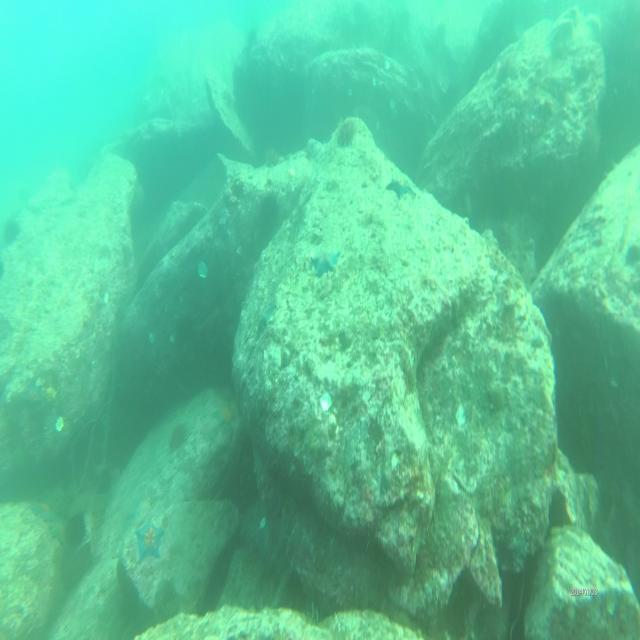echinus: (336, 116, 359, 148), (66, 513, 86, 547), (170, 423, 187, 453)
starfish: (136, 520, 162, 564), (311, 244, 343, 279), (388, 170, 414, 198), (217, 402, 236, 431)
